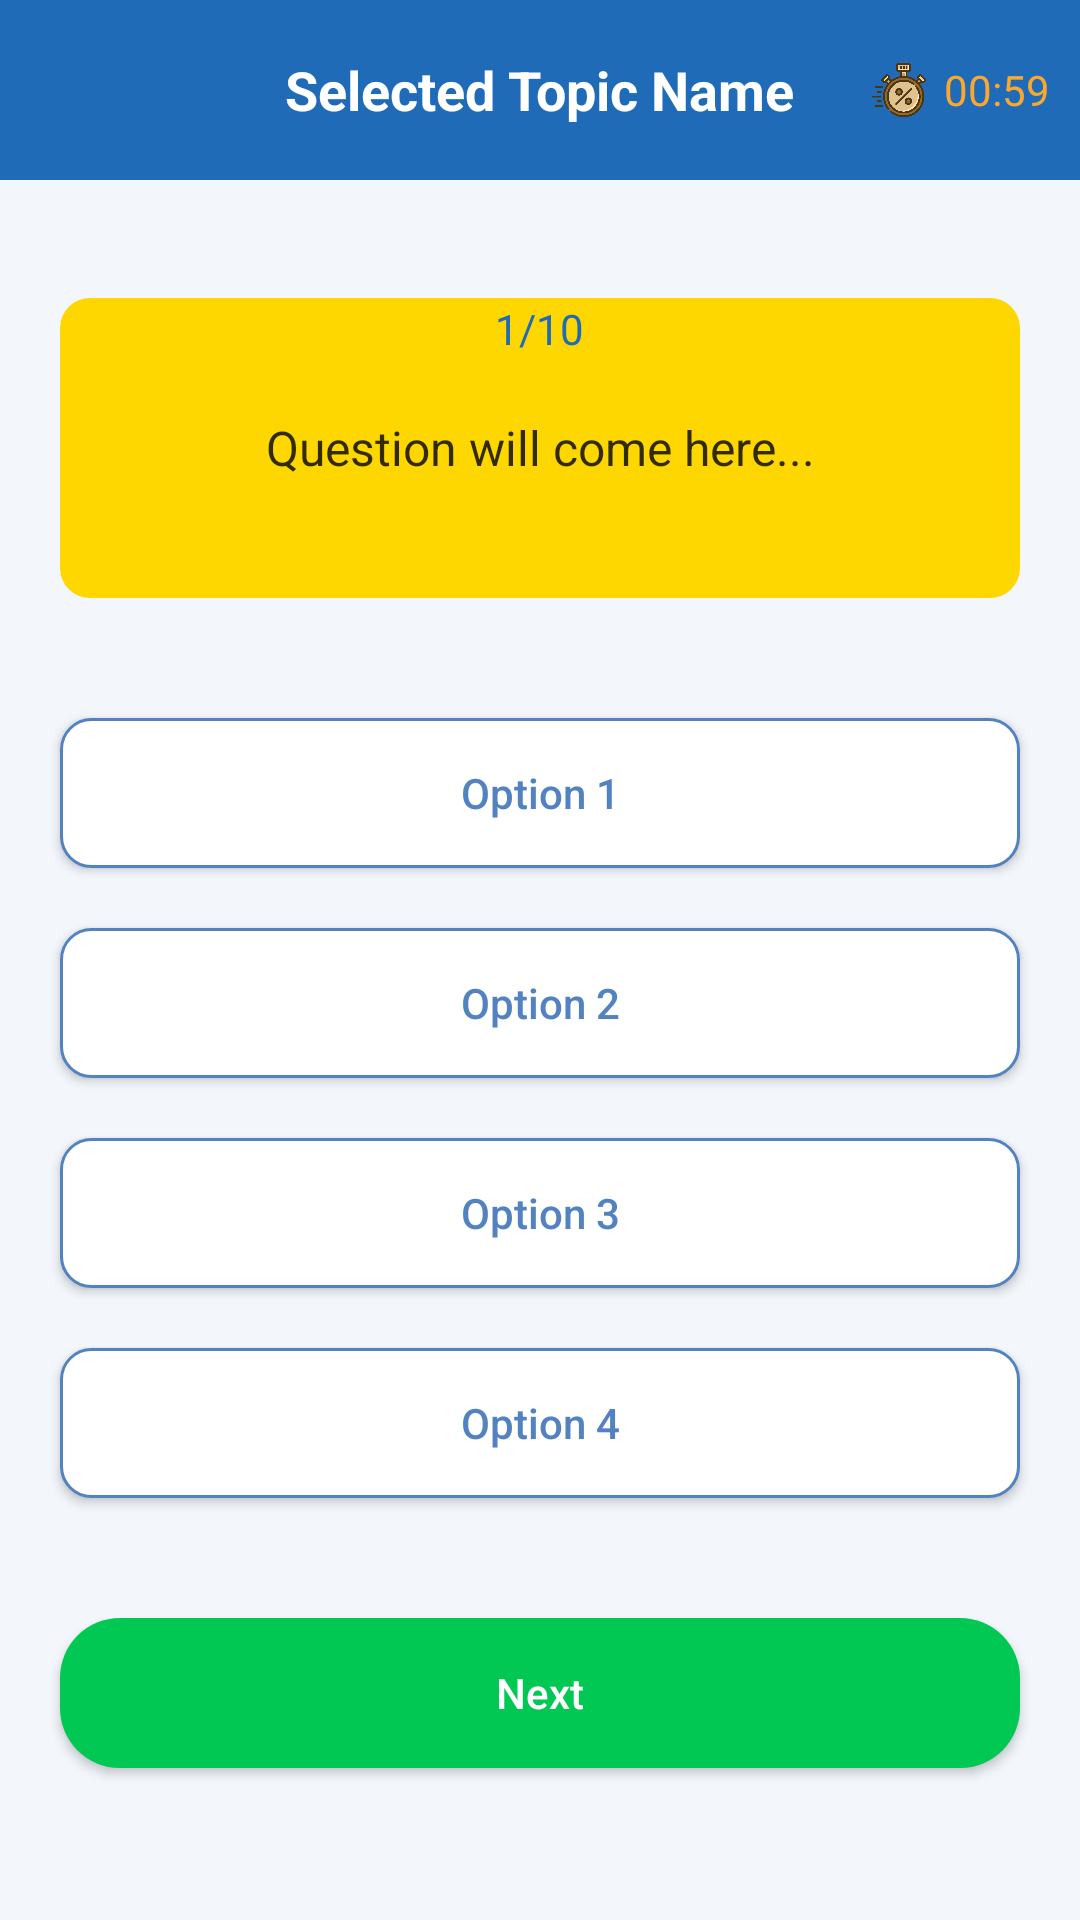

Where icons sit on this 1080w x 1920h app screen, as {"left": x1, "top": y1, "right": x2, "bottom": y2}:
discount: {"left": 872, "top": 63, "right": 926, "bottom": 117}
